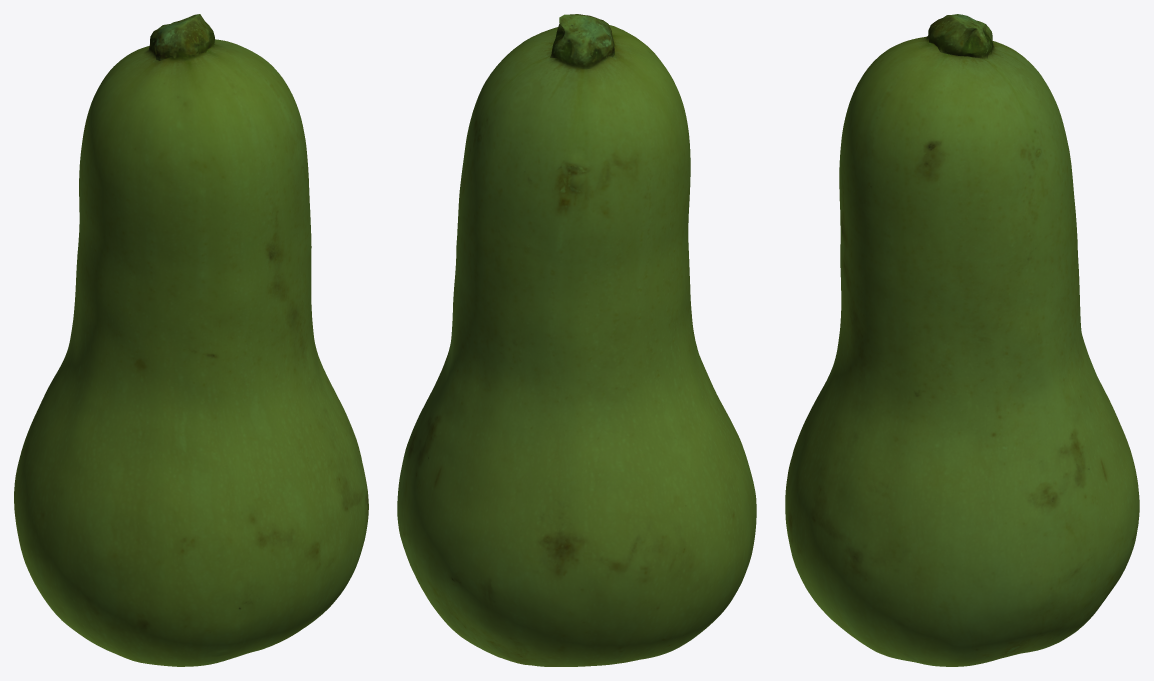
File: squash.glb
3 renders of one model, left to right at view 1: azimuth 30°, elevation 25°; view 2: azimuth 150°, elevation 25°; view 3: azimuth 270°, elevation 25°, orthographic.
Visible parts, largest first — view 1: Object_2; view 2: Object_2; view 3: Object_2.
Boxes of the visible parts, <box> form: Object_2: <box>14,14,368,666</box>; Object_2: <box>397,14,756,666</box>; Object_2: <box>785,14,1139,666</box>.
Bounding box in the file's own units: 0.0859 × 0.1627 × 0.0848.
Materials: 1 (1 with a texture image).
